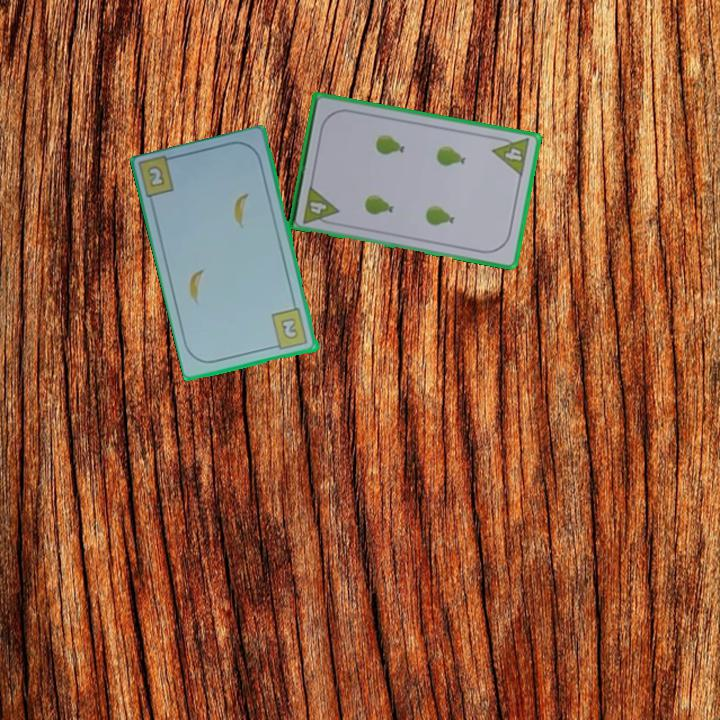2b: (268, 305, 311, 353), (144, 162, 168, 190)
4p: (489, 132, 532, 179), (299, 182, 341, 228)
